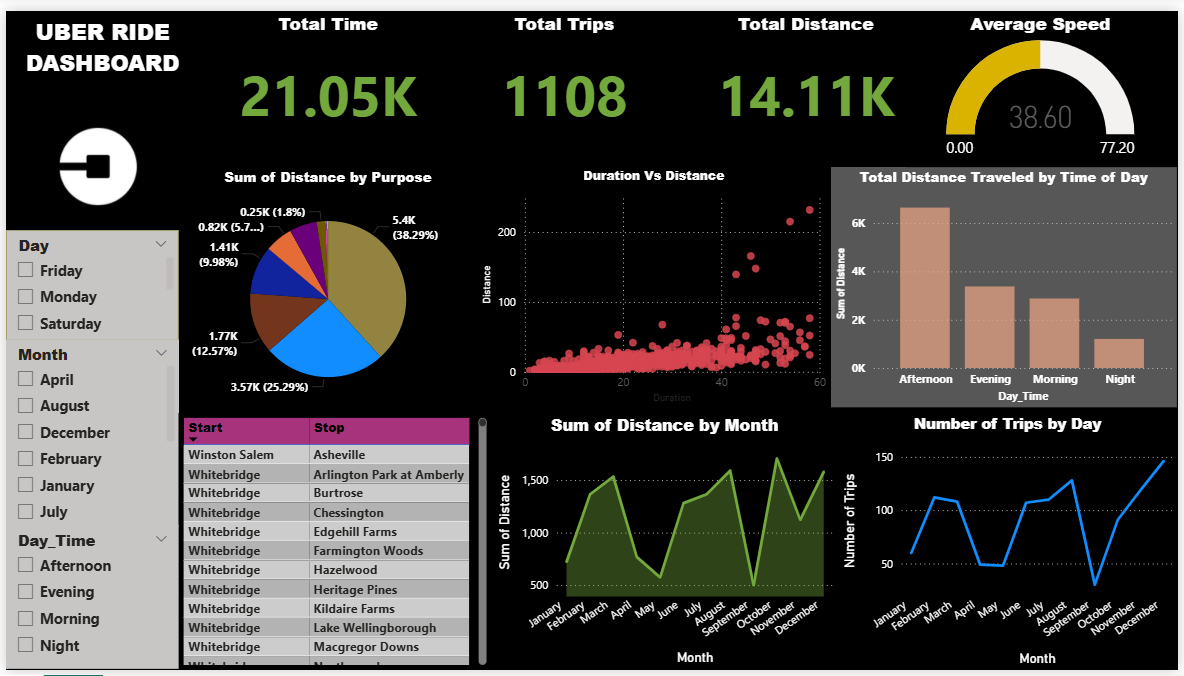

Layout of this report page (visuals, bound fields, positions):
{"tool":"powerbi","page":{"name":"Page 1","canvas":[1280,720],"ordinal":0},"visuals":[{"type":"clusteredColumnChart","title":"Total Distance Traveled by Time of Day","fields":{"Y":["Sum(UberDataset.Distance)"],"Category":["UberDataset.Day_Time"]},"box":[901.7,171.2,378,262.7],"z":0},{"type":"textbox","box":[0,0,211.3,117.7],"z":1000},{"type":"image","box":[6.5,80.6,188.7,179],"z":2000},{"type":"gauge","title":"Average Speed","fields":{"Y":["Avg(UberDataset.Speed)"]},"box":[983.9,0,293.5,171],"z":3000},{"type":"pieChart","fields":{"Category":["UberDataset.Purpose"],"Y":["Sum(UberDataset.Distance)"]},"box":[188.1,171.2,327.1,267.8],"z":4000},{"type":"card","title":"Total Distance","fields":{"Values":["Sum(UberDataset.Distance)"]},"box":[743.5,0,259.7,150],"z":5000},{"type":"card","title":"Total Trips","fields":{"Values":["CountNonNull(UberDataset.Start)"]},"box":[477.4,0,266.1,150],"z":6000},{"type":"slicer","fields":{"Values":["UberDataset.Day"]},"box":[0,238.7,188.7,121],"z":7000},{"type":"lineChart","title":"Number of Trips by Day","fields":{"Category":["UberDataset.Start_Date.Variation.Date Hierarchy.Year","UberDataset.Start_Date.Variation.Date Hierarchy.Quarter","UberDataset.Start_Date.Variation.Date Hierarchy.Month","UberDataset.Start_Date.Variation.Date Hierarchy.Day"],"Y":["CountNonNull(UberDataset.Start)"]},"box":[908.1,438.7,372.6,280.6],"z":8000},{"type":"stackedAreaChart","fields":{"Category":["UberDataset.Start_Date.Variation.Date Hierarchy.Month"],"Y":["Sum(UberDataset.Distance)"]},"box":[530.6,438.7,377.4,280.6],"z":9000},{"type":"scatterChart","title":"Duration Vs Distance","fields":{"X":["UberDataset.Duration"],"Y":["UberDataset.Distance"]},"box":[515.3,171.2,386.4,262.7],"z":10000},{"type":"slicer","fields":{"Values":["UberDataset.Month"]},"box":[0,359.7,188.7,203.2],"z":11000},{"type":"card","title":"Total Time","fields":{"Values":["Sum(UberDataset.Duration)"]},"box":[225.8,0,251.6,150],"z":12000},{"type":"tableEx","fields":{"Values":["UberDataset.Start","UberDataset.Stop"]},"box":[188.7,438.7,341.9,280.6],"z":13000},{"type":"slicer","fields":{"Values":["UberDataset.Day_Time"]},"box":[0,562.9,188.7,156.5],"z":14000}]}

Visuals, with their boxes in screenshot pixels (x1, y1, x2, y2), scaled from the page's 1280x720 canvas onto the 1184x676 screenshot:
"Total Distance Traveled by Time of Day" clusteredColumnChart: locate(834, 161, 1183, 407)
textbox: locate(0, 0, 195, 111)
image: locate(6, 76, 181, 244)
"Average Speed" gauge: locate(910, 0, 1182, 161)
pieChart - UberDataset.Purpose x Sum(UberDataset.Distance): locate(174, 161, 477, 412)
"Total Distance" card: locate(688, 0, 928, 141)
"Total Trips" card: locate(442, 0, 688, 141)
slicer - UberDataset.Day: locate(0, 224, 175, 338)
"Number of Trips by Day" lineChart: locate(840, 412, 1183, 675)
stackedAreaChart - UberDataset.Start_Date.Variation.Date Hierarchy.Month x Sum(UberDataset.Distance): locate(491, 412, 840, 675)
"Duration Vs Distance" scatterChart: locate(477, 161, 834, 407)
slicer - UberDataset.Month: locate(0, 338, 175, 529)
"Total Time" card: locate(209, 0, 442, 141)
tableEx - UberDataset.Start x UberDataset.Stop: locate(175, 412, 491, 675)
slicer - UberDataset.Day_Time: locate(0, 529, 175, 675)
